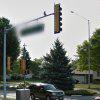Traffic light: (47, 1, 72, 37)
